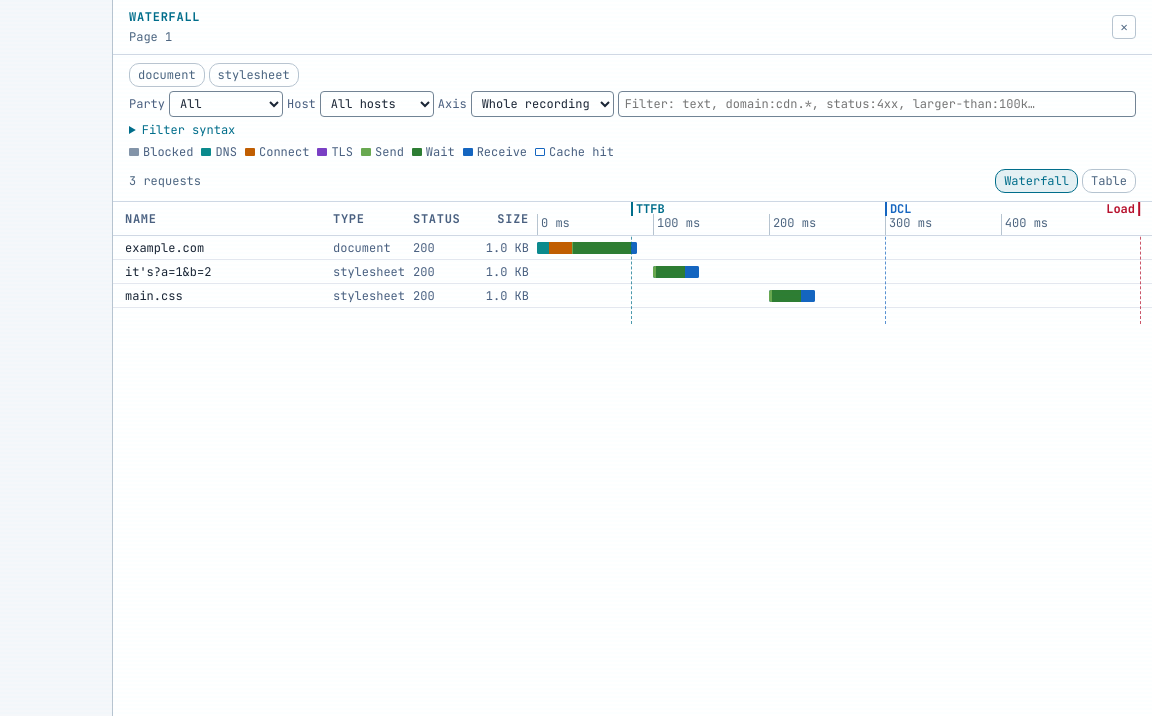
Test case: WaterfallPanel: copying a request › offers the same actions in the table view
Click the button "Table": (1109, 181) [1082, 169, 1136, 193]
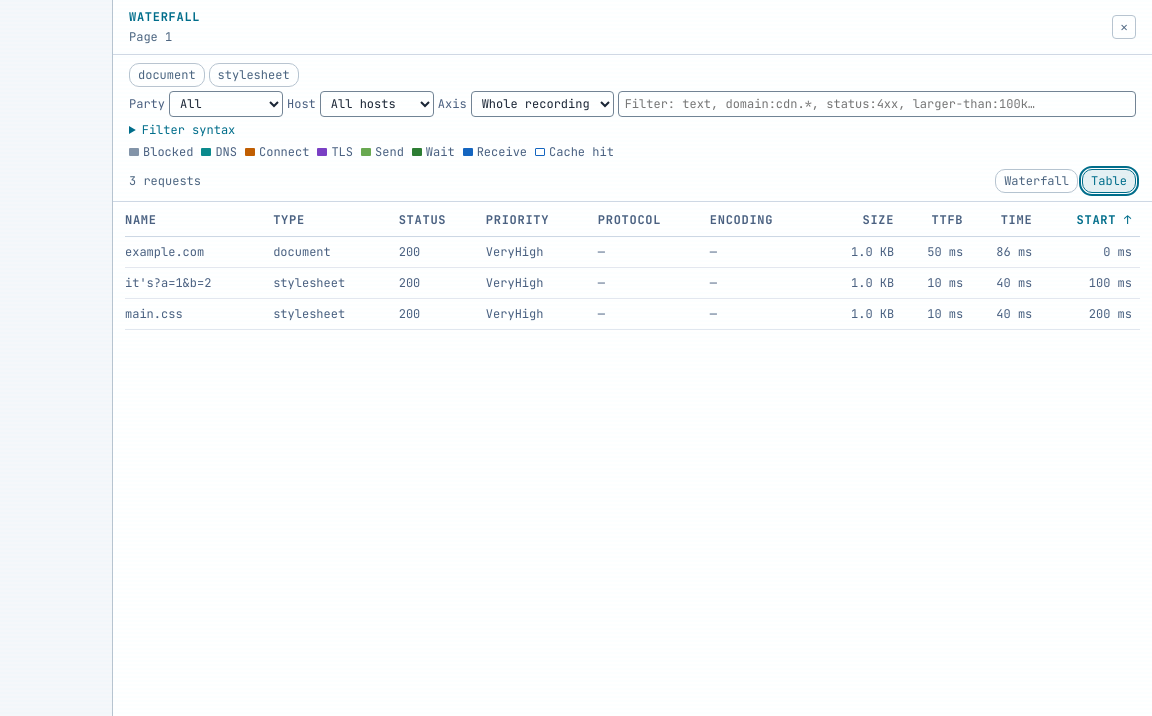
Click the button "main.css": (154, 314) [125, 302, 183, 326]
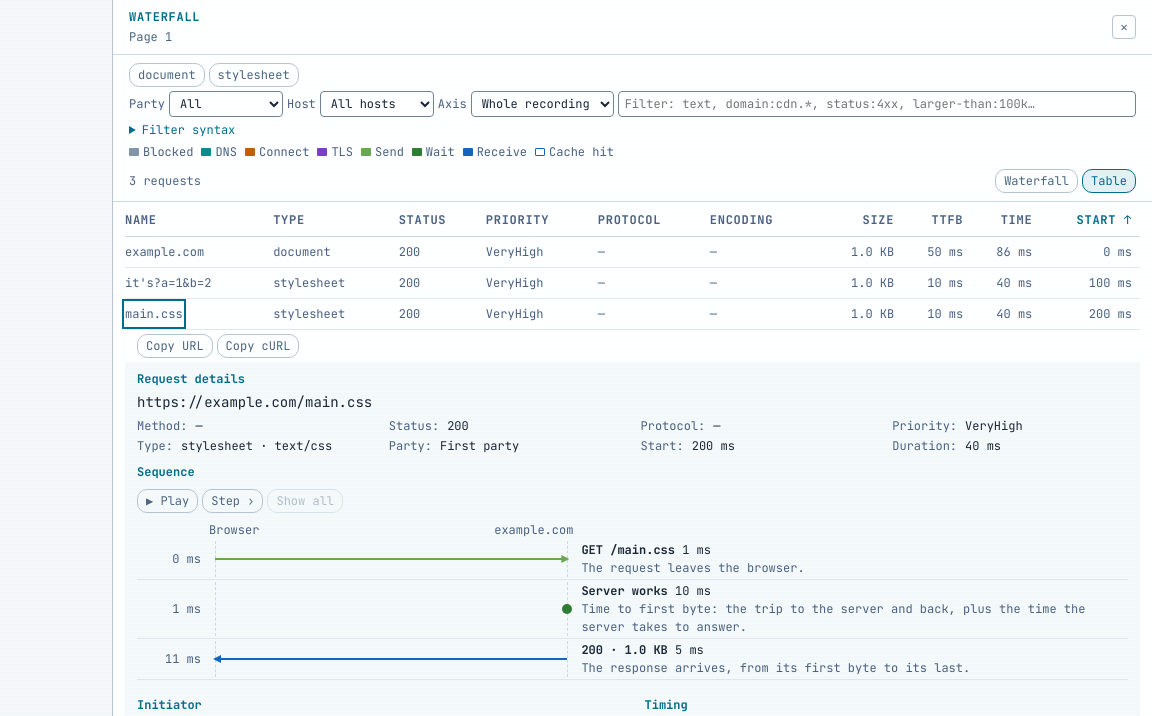
Click the button "Copy URL": (175, 346) [137, 334, 213, 358]
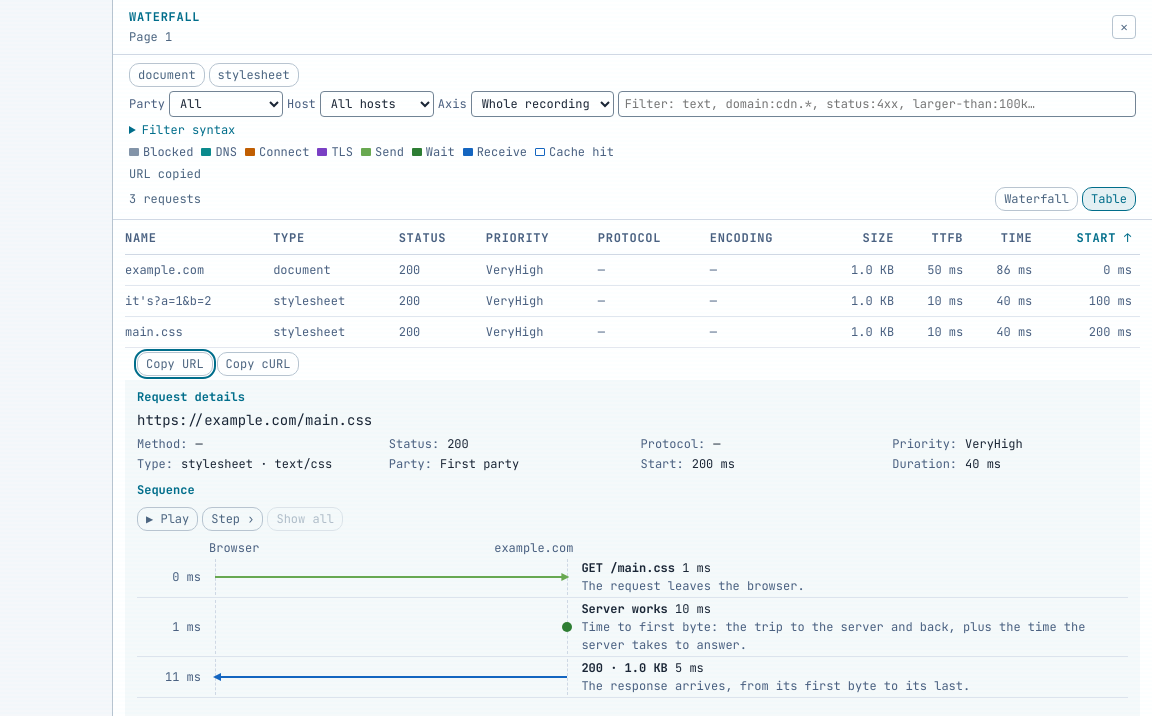
Expected: the text "URL copied" is shown, [129, 166, 201, 182]
